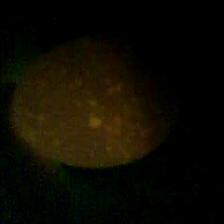fertile: (8, 35, 182, 171)
